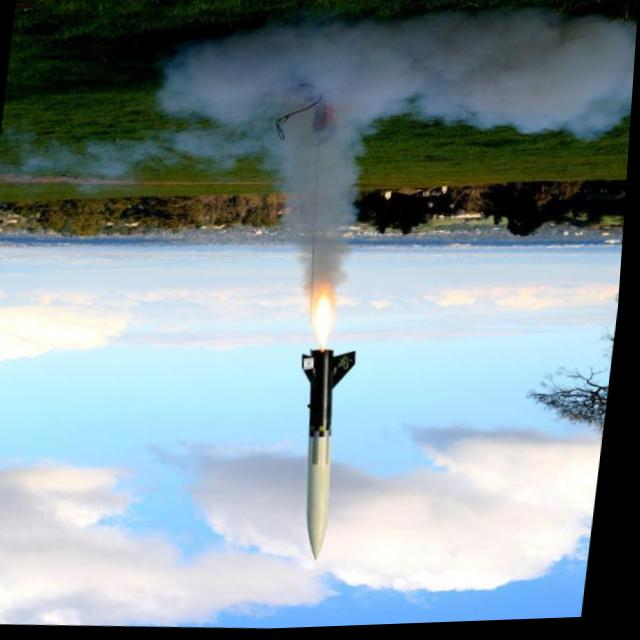missile: (279, 342, 372, 565)
